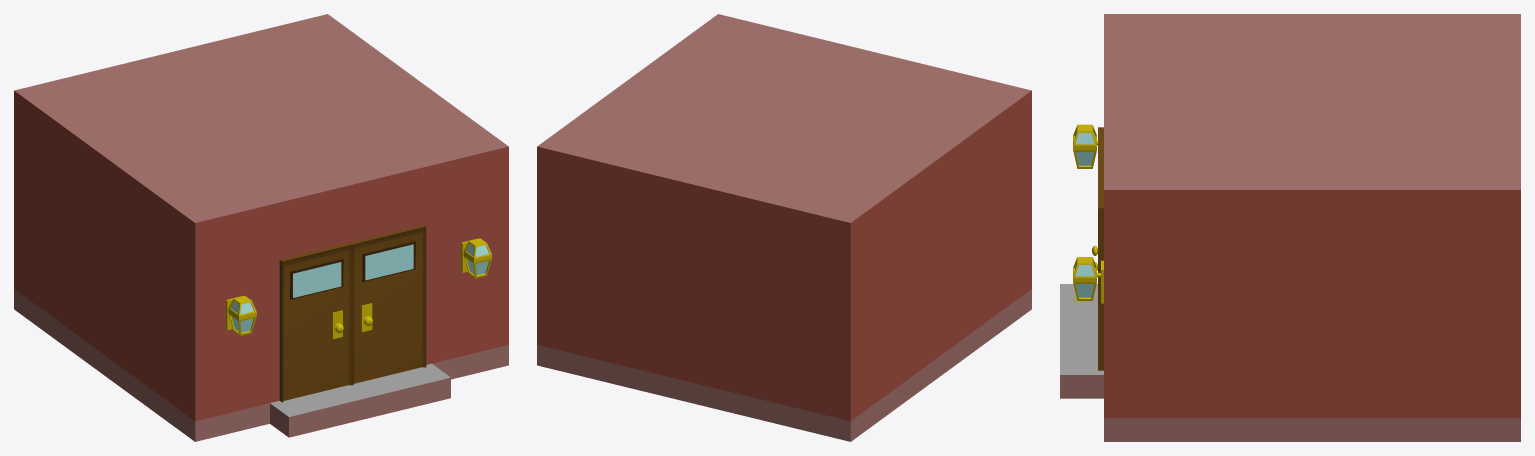
Rendered from GroundV2.fbx.
3 renders of one model, left to right at view 1: azimuth 30°, elevation 25°; view 2: azimuth 150°, elevation 25°; view 3: azimuth 270°, elevation 25°, orthographic. The views are drawn at different scales.
Parts seen in each view (by area): view 1: pCube6, pCube3 (×2), pCube26 (×2), pCylinder3, pCylinder1; view 2: pCube6; view 3: pCube6, pCube26 (×2), pCube3.
Boxes of the visible parts, x1,y1,x2,y2 form: pCube6: (14,14,508,441); pCube3 (×2): (279,224,426,402); pCube26 (×2): (228,238,491,335); pCylinder3: (290,258,343,299); pCylinder1: (362,241,415,281); pCube6: (537,14,1031,441); pCube6: (1060,14,1520,441); pCube26 (×2): (1073,124,1096,300); pCube3: (1098,166,1103,370).
Size of the model in its own units: 25 by 16.67 by 27.64.
